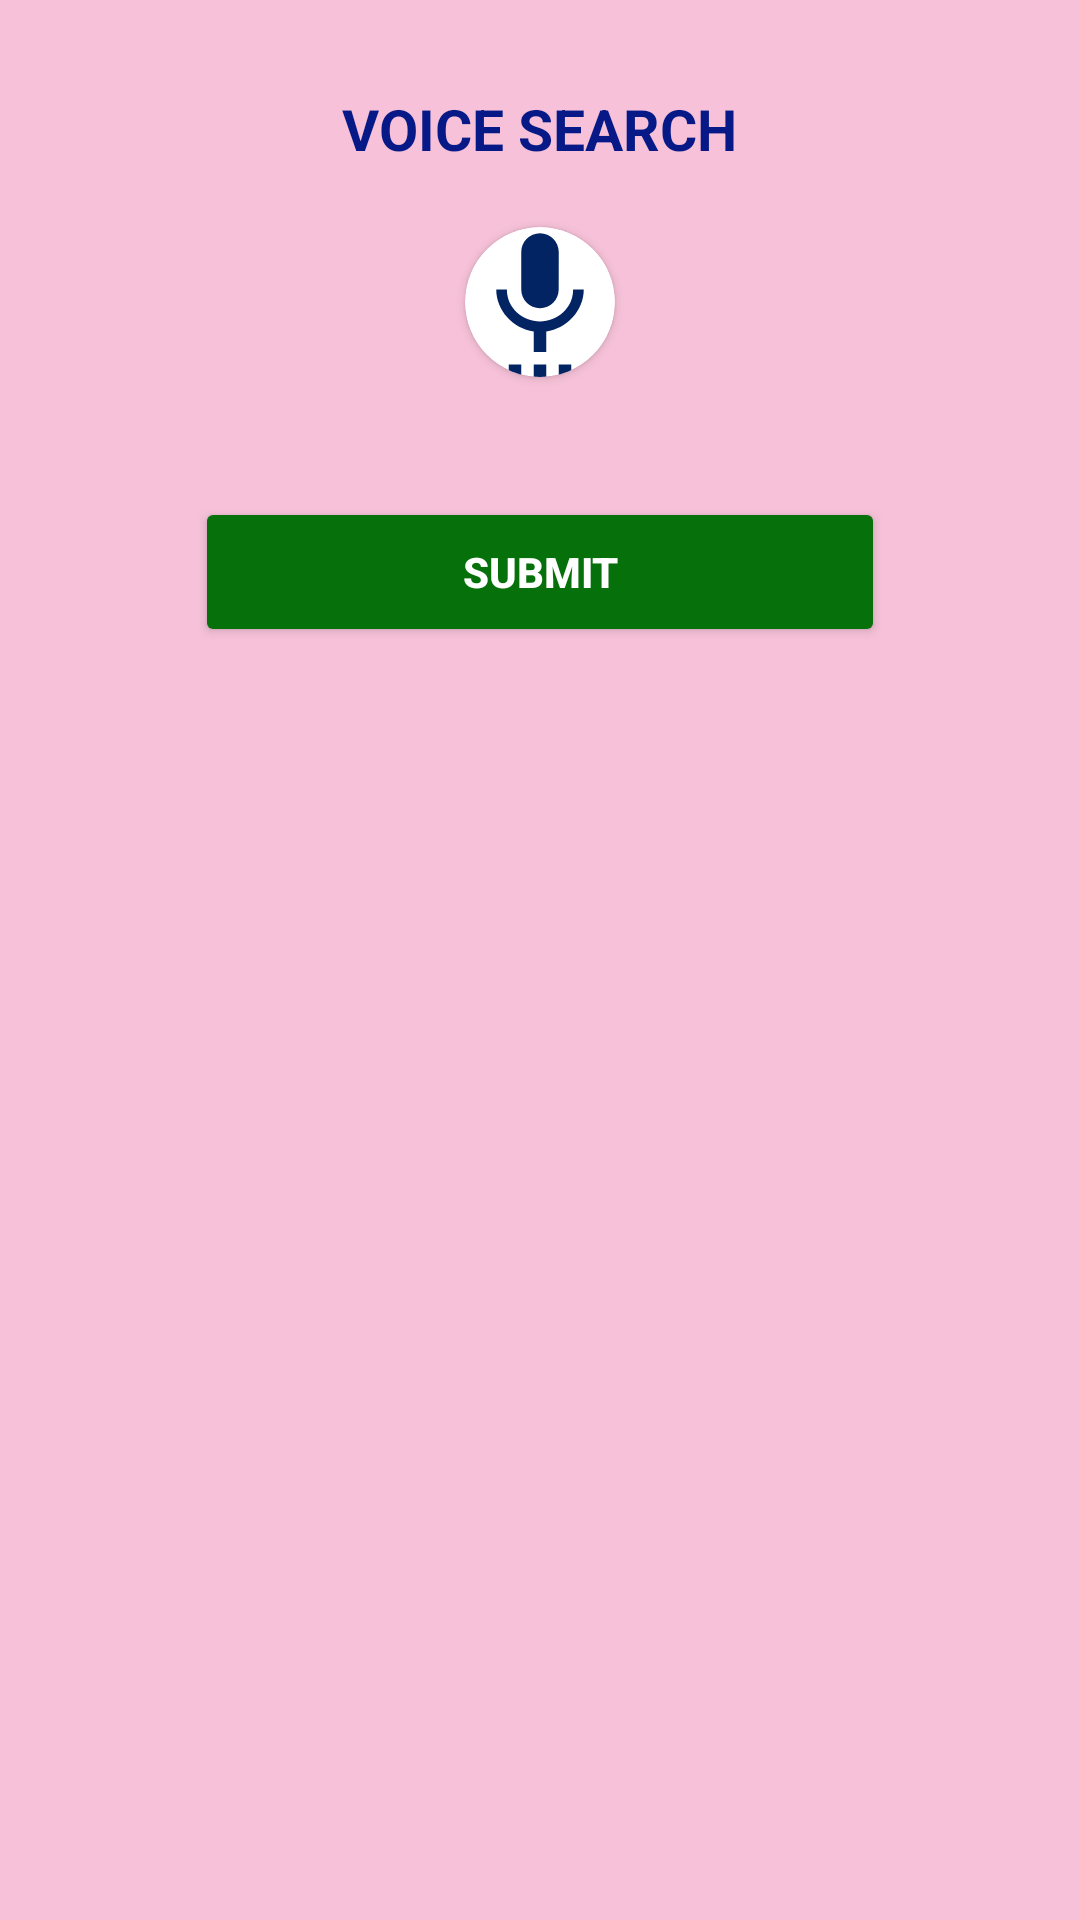

Locate icon controls on the screen. Image size 1080px×1920px, boxes as region(x1, y1, x2, y2).
settings voice: region(465, 227, 615, 377)
